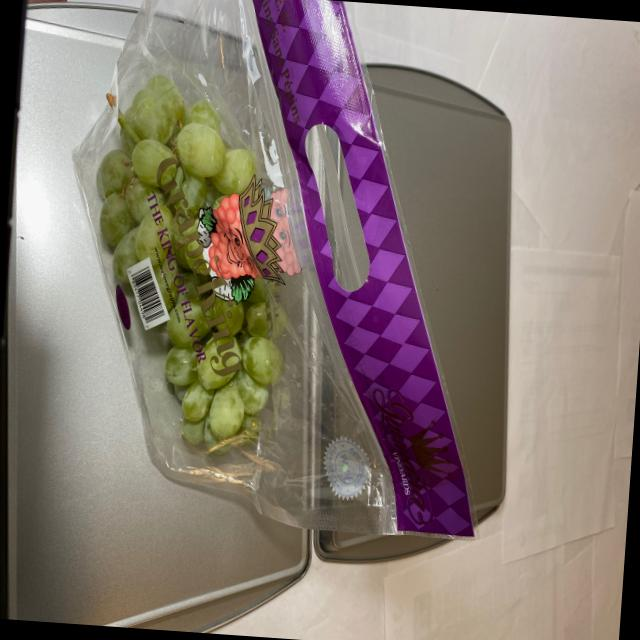grapes: (73, 88, 306, 486)
